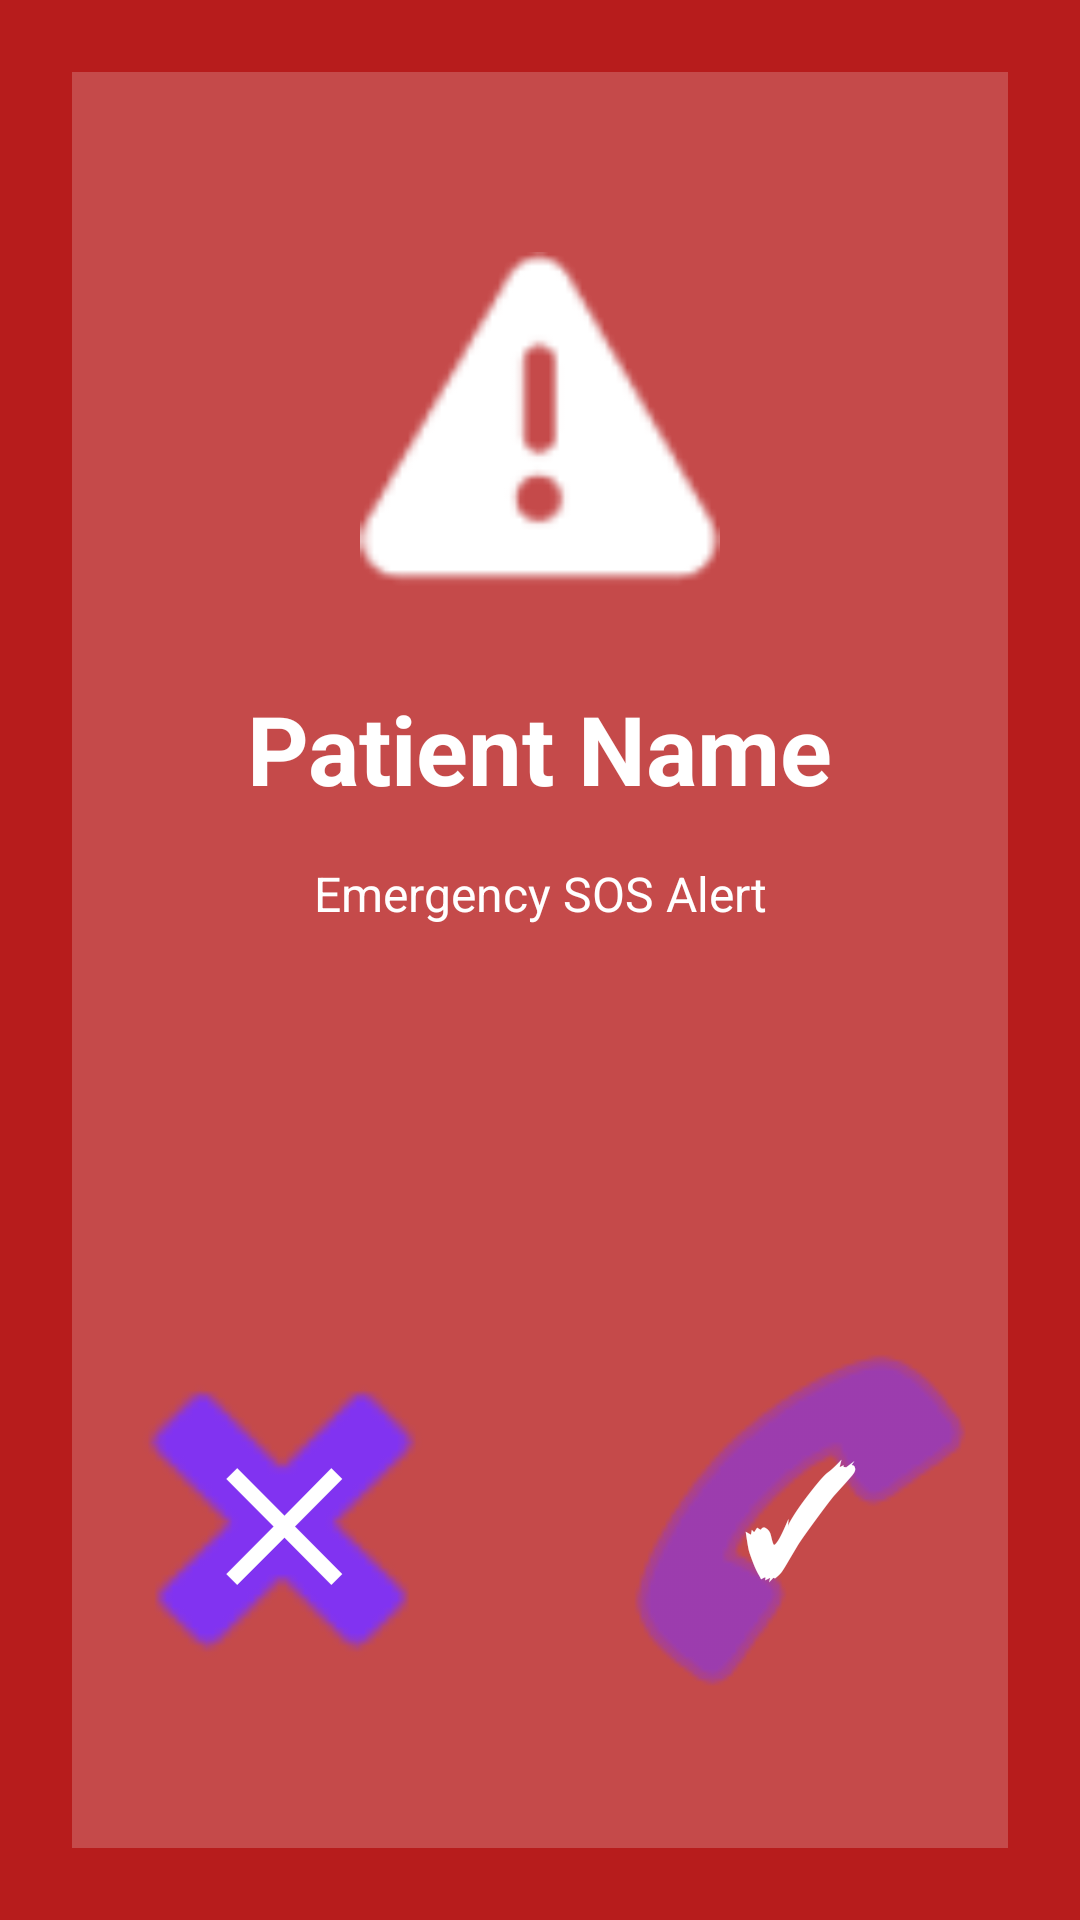

Screen size 1080w x 1920h. Icon name, then its box in pixels as {"left": x1, "top": y1, "right": x2, "bottom": y2}:
alert: {"left": 360, "top": 252, "right": 720, "bottom": 580}
